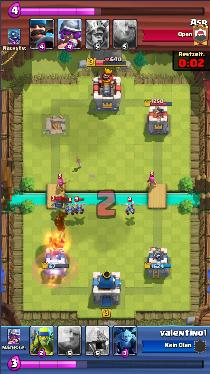enemy_archer: (146, 175, 157, 187), (56, 177, 66, 190)
enemy_fireball: (31, 252, 77, 286)
enemy_mini_pekka: (51, 197, 67, 209)
enemy_minion: (125, 202, 136, 215), (64, 206, 75, 215), (75, 204, 83, 215)
